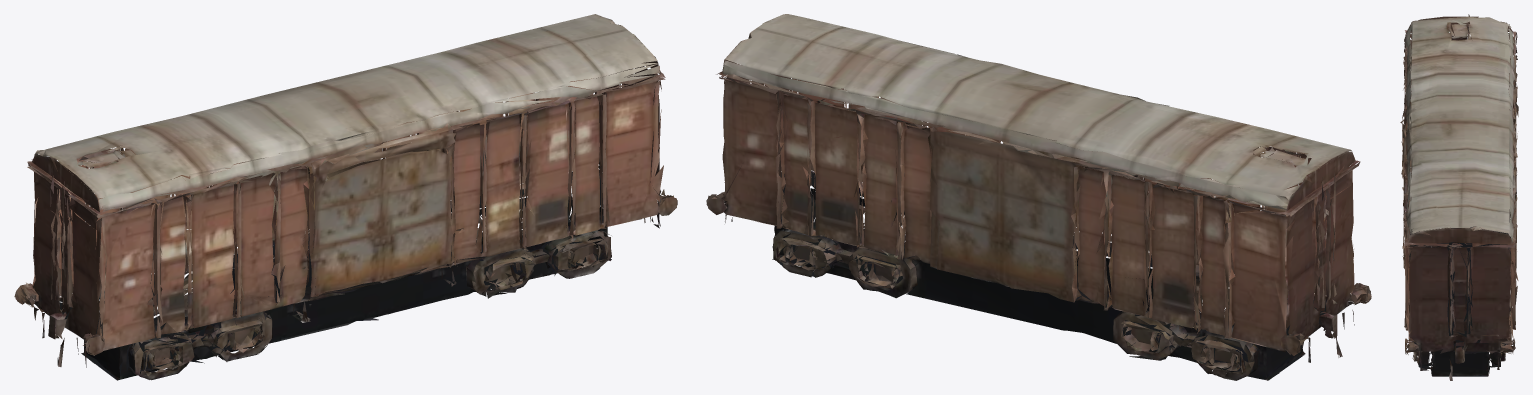
Rendered from container_boxcar.glb.
3 renders of one model, left to right at view 1: azimuth 30°, elevation 25°; view 2: azimuth 150°, elevation 25°; view 3: azimuth 270°, elevation 25°, orthographic. The views are drawn at different scales.
Parts seen in each view (by area): view 1: container_boxcar; view 2: container_boxcar; view 3: container_boxcar.
Part boxes in pixels (box(x1,y1,x2,y2)): container_boxcar: box(14, 14, 677, 380); container_boxcar: box(706, 14, 1371, 380); container_boxcar: box(1400, 14, 1518, 380).
Size of the model in its own units: 13.97 by 4.92 by 3.13.
Materials: 1 (1 with a texture image).
